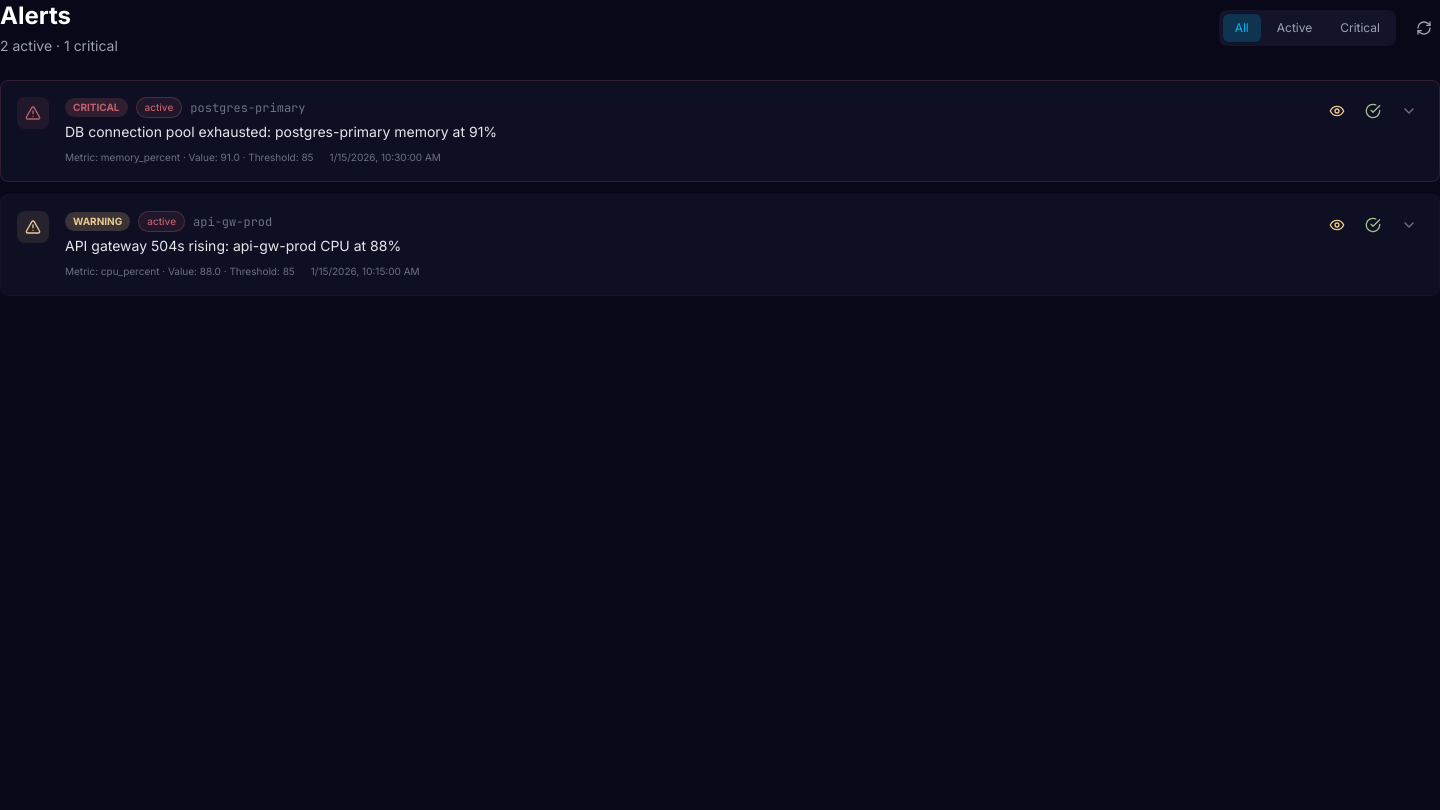
Test case: AlertPanel › high-risk confirmation › dismisses confirmation dialog when Cancel is clicked
Click the button with class "lucide-chevron-down": {"x": 1409, "y": 111} [1395,97,1423,125]
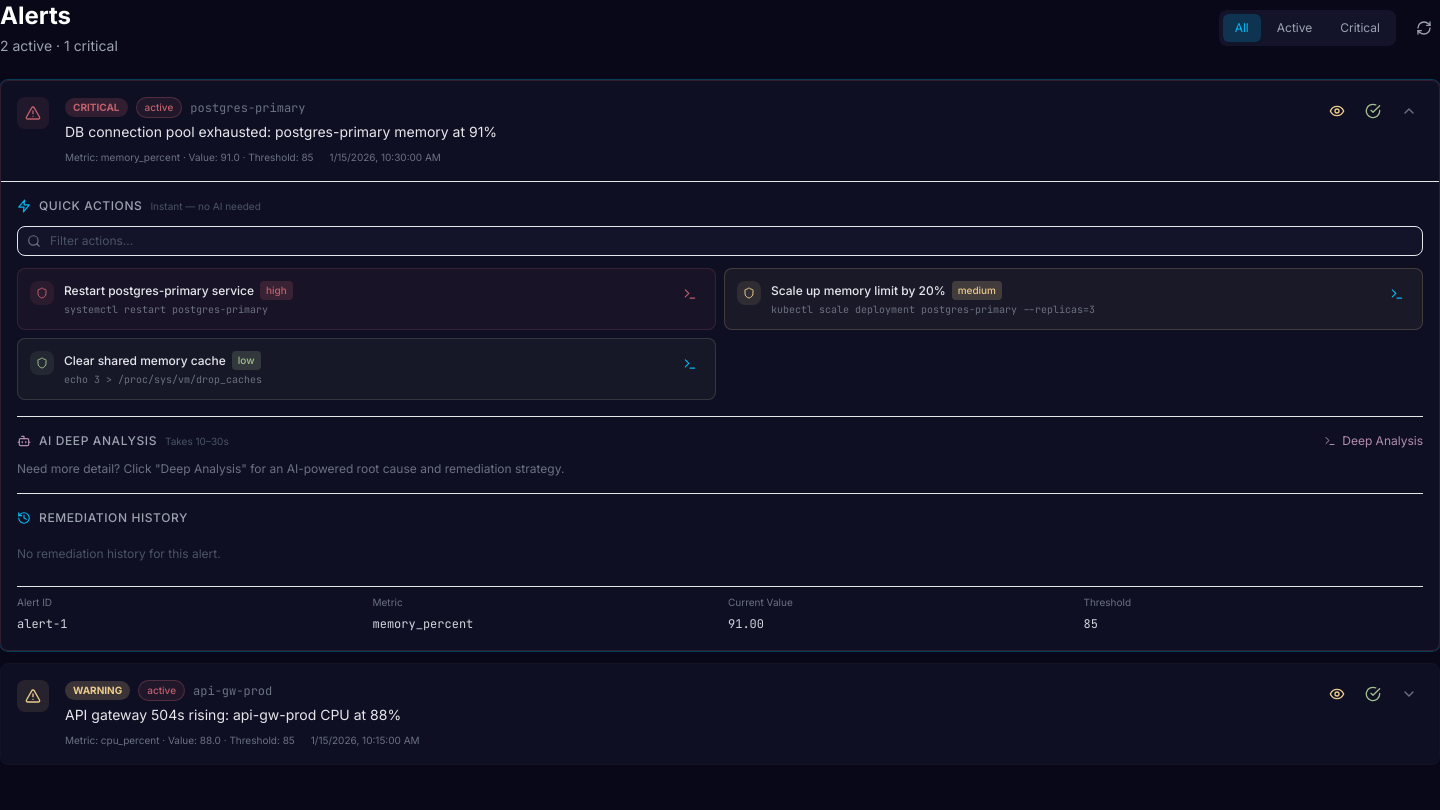
Expected: the text "Restart postgres-primary service" is shown, [64,282,254,298]
Open confirmation
Click the button titled "Click to confirm execution": {"x": 690, "y": 294} [677,281,703,307]
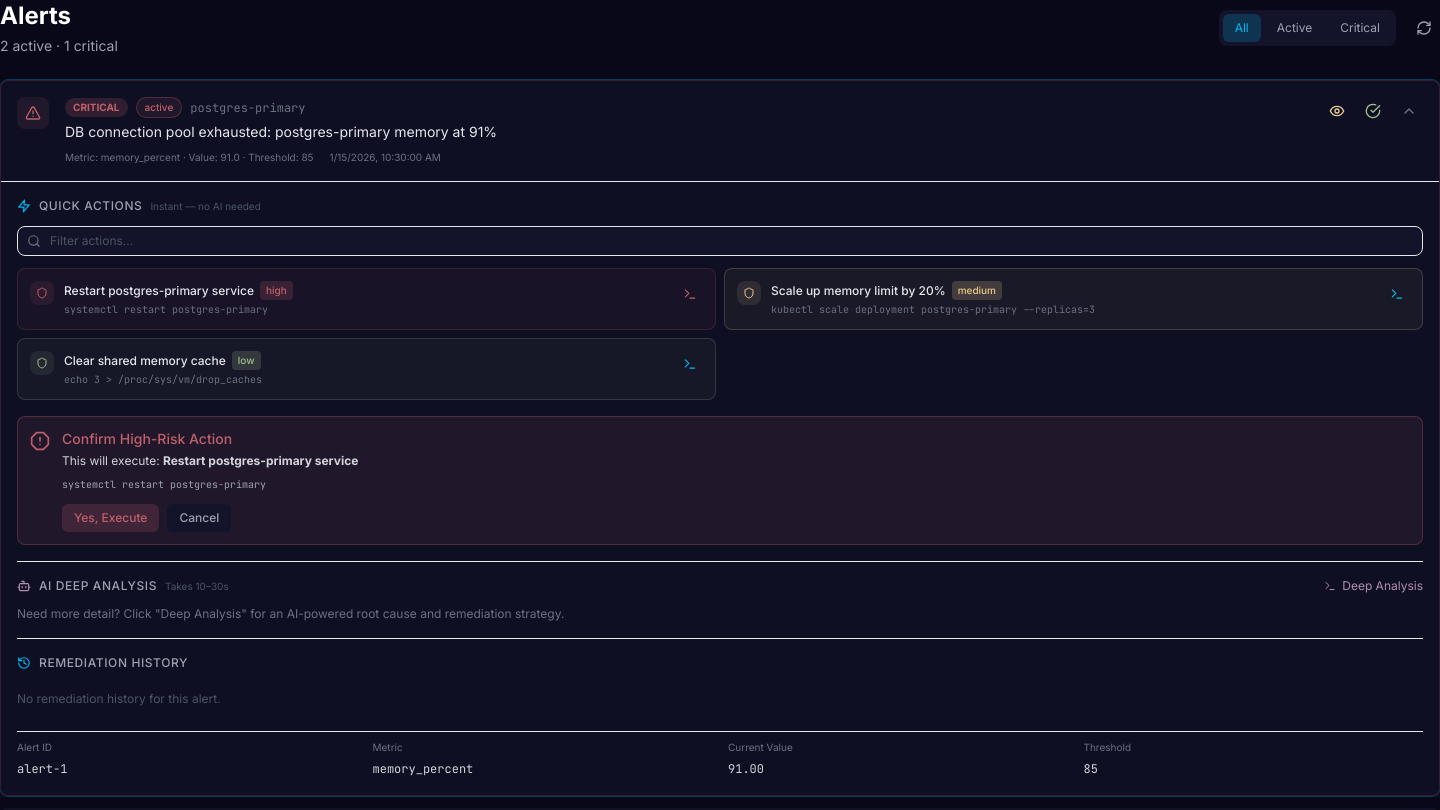
Expected: the text "Confirm High-Risk Action" is shown, [62,430,232,447]
Click the button "Cancel": {"x": 199, "y": 518} [167,504,231,532]
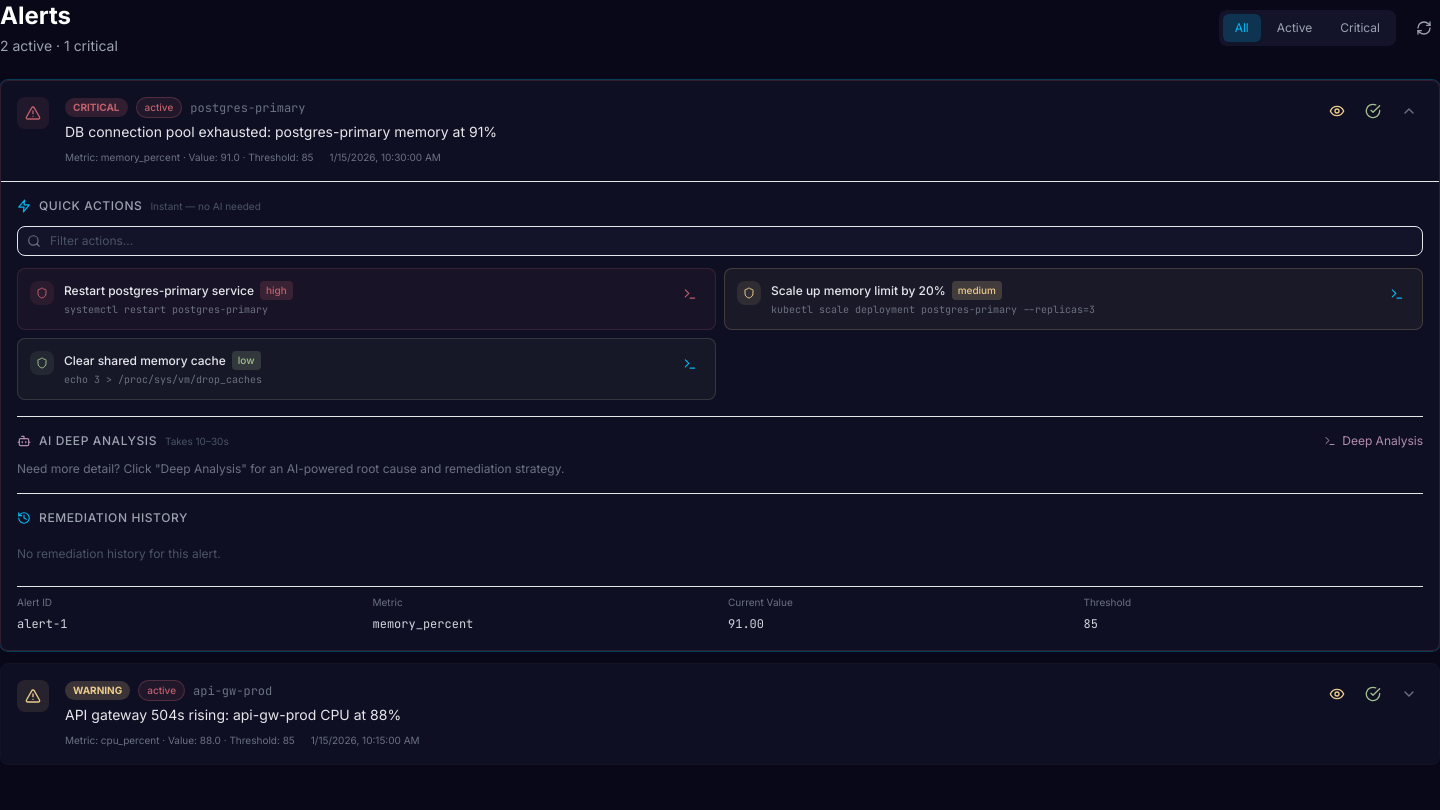
Expected: the text "Confirm High-Risk Action" is gone
